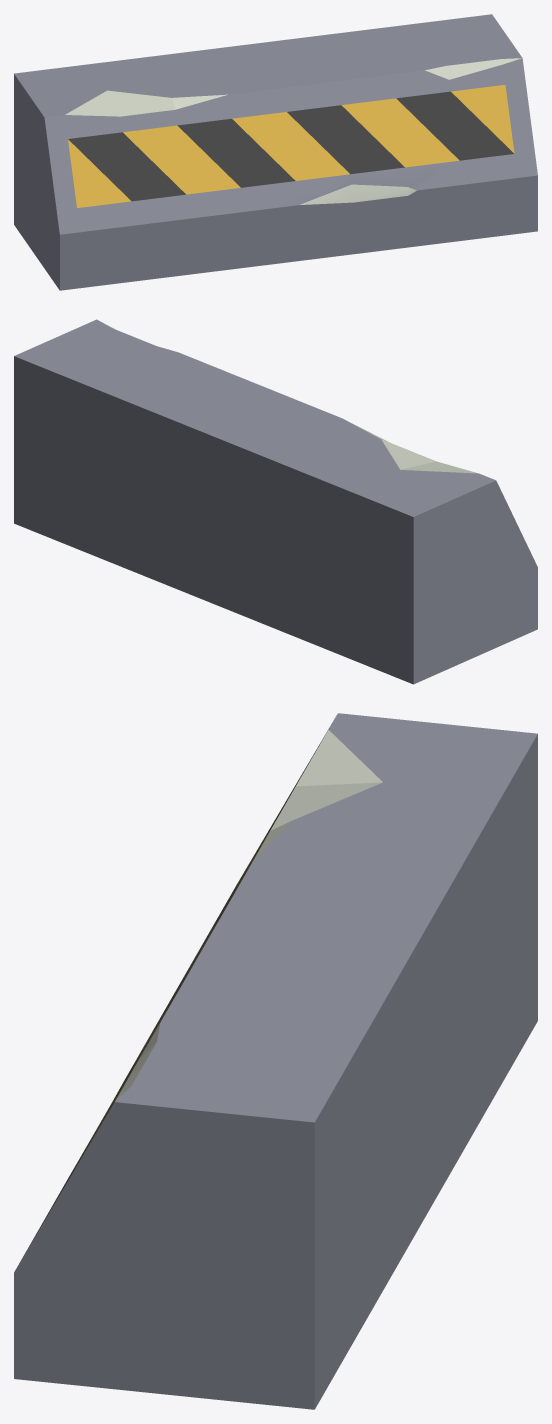
Rendered from Barrier_Obs.fbx.
3 renders of one model, top to bottom at view 1: azimuth 30°, elevation 25°; view 2: azimuth 150°, elevation 25°; view 3: azimuth 270°, elevation 25°, orthographic. The views are drawn at different scales.
Parts seen in each view (by area): view 1: Barrier_Single.001; view 2: Barrier_Single.001; view 3: Barrier_Single.001.
Boxes of the visible parts, <box> form: Barrier_Single.001: <box>14,14,537,290</box>; Barrier_Single.001: <box>14,319,537,684</box>; Barrier_Single.001: <box>14,713,537,1409</box>.
Size of the model in its own units: 70.85 by 22.61 by 37.38.
